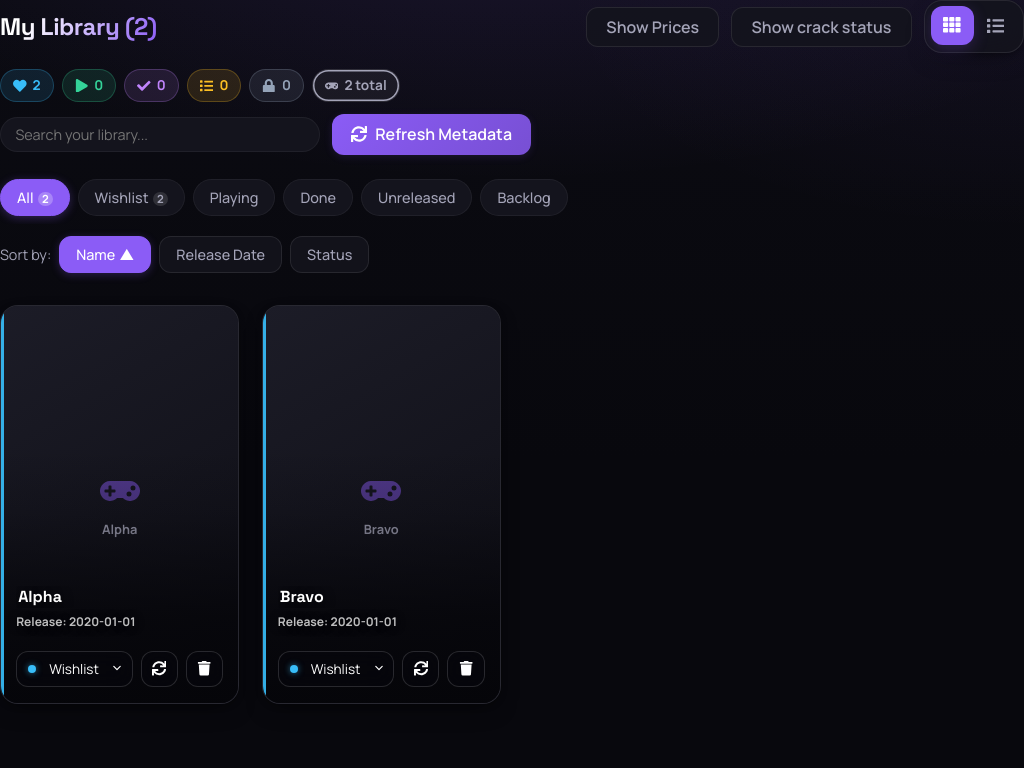
Test: library cards and chips are reachable and named (FE-6) › each card is a group named by its title; the title button opens the details
The image size is (1024, 768).
Expected: the dropdown named "Status for Alpha" is shown, left=16, top=651, right=133, bottom=687
Expected: the button named "Refresh metadata for Alpha" is shown, left=141, top=651, right=178, bottom=687
Click the button "Alpha" at (120,597), box left=16, top=586, right=223, bottom=608
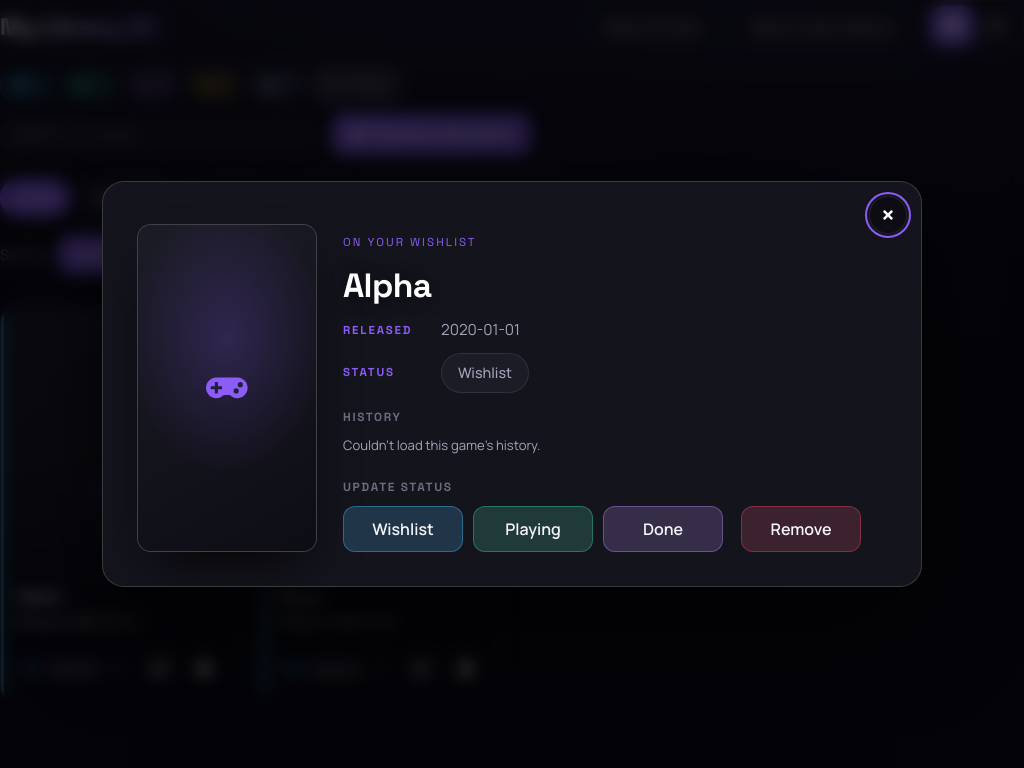
Result: the dialog is shown at left=102, top=181, right=922, bottom=587
